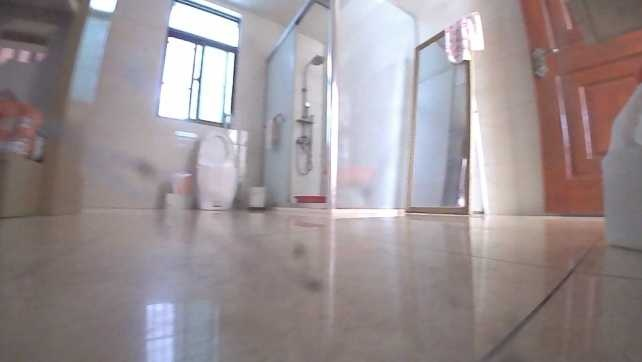toilet: (189, 127, 242, 212)
